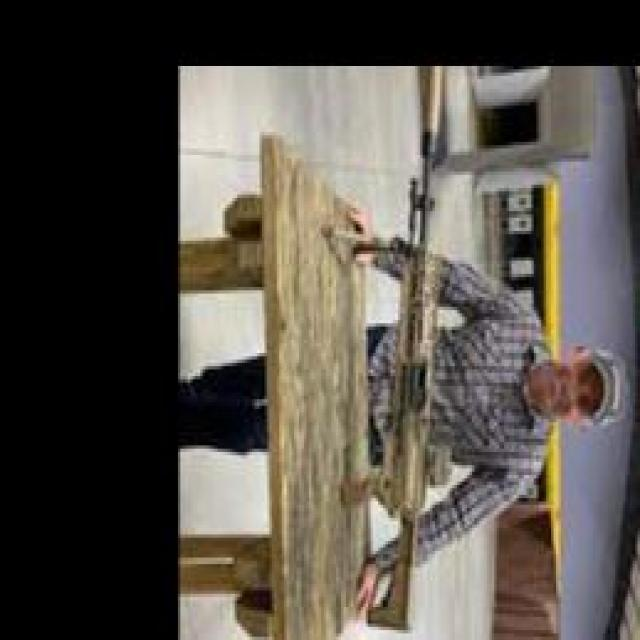weapon: (341, 63, 452, 634)
